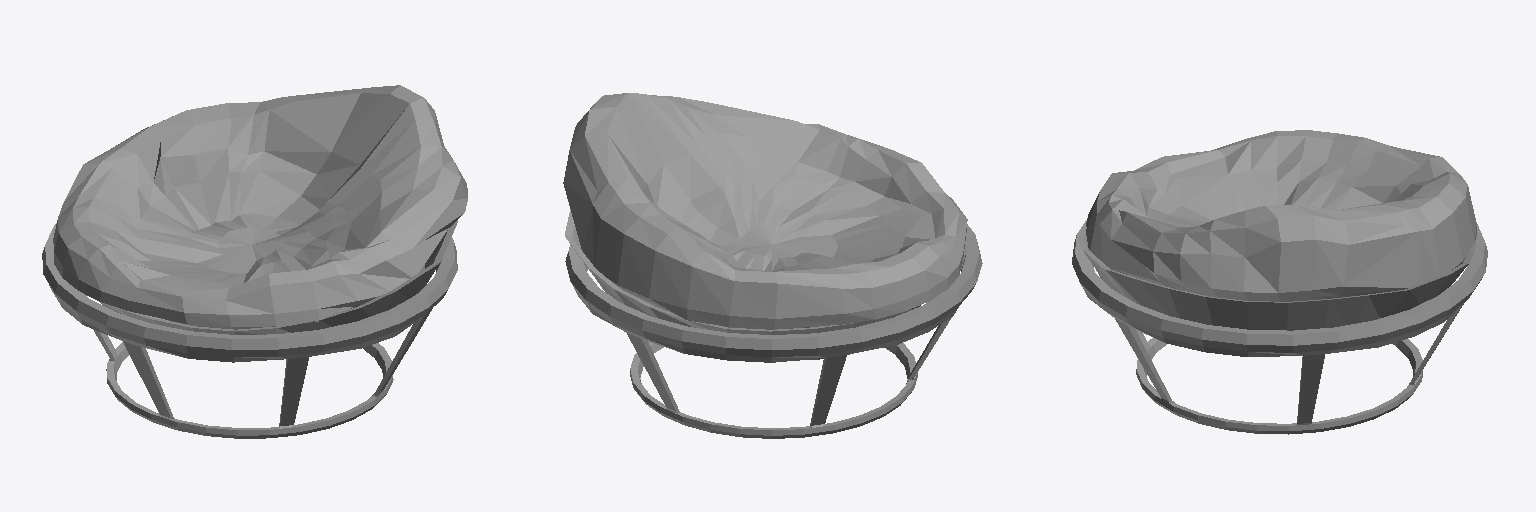
Rendered from Spilvenkresls.obj.
3 views of the same model, side by side, from view 1: azimuth 30°, elevation 25°; view 2: azimuth 150°, elevation 25°; view 3: azimuth 270°, elevation 25° (orthographic).
Parts seen in each view (by area): view 1: Kresla_Spilvens_Sphere.005, Kresla_stiprinajums_Sphere.002, Kresla_grozs_Sphere.004; view 2: Kresla_Spilvens_Sphere.005, Kresla_stiprinajums_Sphere.002, Kresla_grozs_Sphere.004; view 3: Kresla_Spilvens_Sphere.005, Kresla_stiprinajums_Sphere.002, Kresla_grozs_Sphere.004.
Boxes of the visible parts, x1,y1,x2,y2 form: Kresla_Spilvens_Sphere.005: [53, 85, 467, 329]; Kresla_stiprinajums_Sphere.002: [42, 223, 457, 438]; Kresla_grozs_Sphere.004: [100, 220, 457, 334]; Kresla_Spilvens_Sphere.005: [563, 93, 967, 329]; Kresla_stiprinajums_Sphere.002: [565, 224, 982, 438]; Kresla_grozs_Sphere.004: [565, 209, 966, 360]; Kresla_Spilvens_Sphere.005: [1086, 130, 1476, 301]; Kresla_stiprinajums_Sphere.002: [1072, 220, 1487, 434]; Kresla_grozs_Sphere.004: [1076, 224, 1476, 330].
Bounding box in the file's own units: 1.52 × 0.9544 × 1.48.